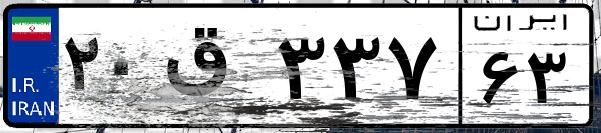0: (110, 28, 158, 98)
2: (57, 26, 110, 100)
3: (270, 28, 330, 110), (330, 28, 385, 110), (525, 38, 570, 115)
6: (475, 38, 525, 113)
7: (385, 28, 445, 110)
ق: (158, 20, 270, 120)
